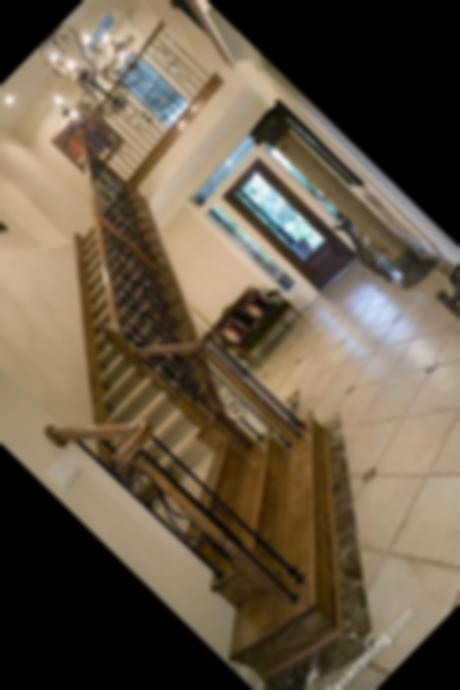Escaleras: (0, 155, 456, 690)
